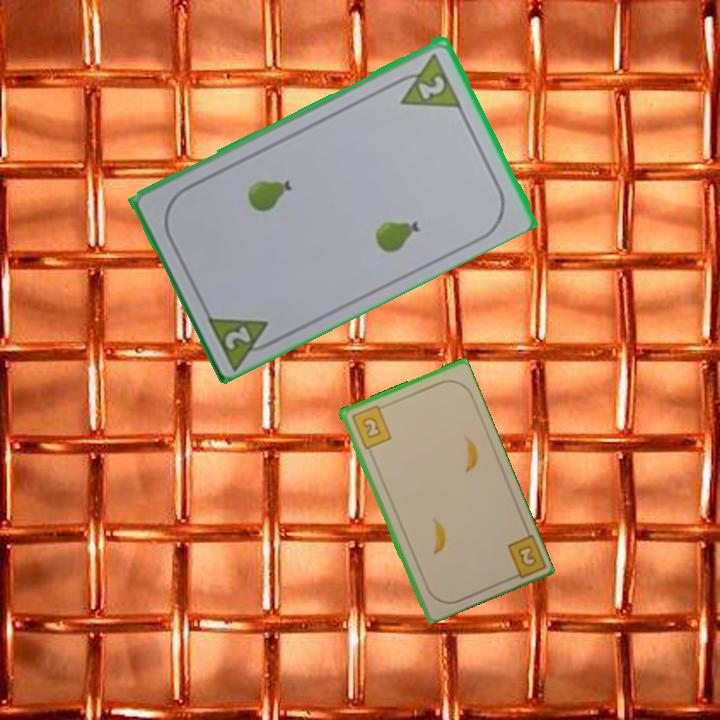2b: (348, 401, 394, 452), (503, 530, 547, 583)
2p: (202, 308, 282, 370), (388, 49, 464, 111)
